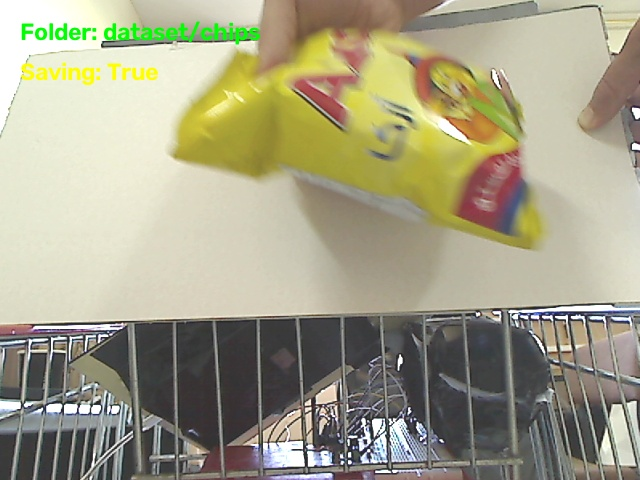chips: (173, 30, 541, 247)
